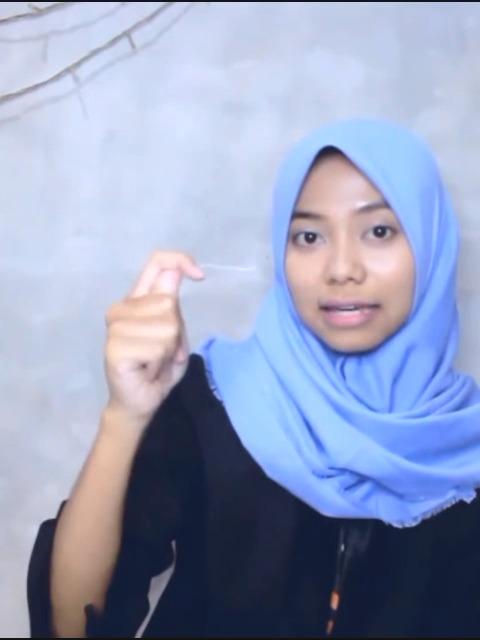T: (102, 247, 206, 407)
